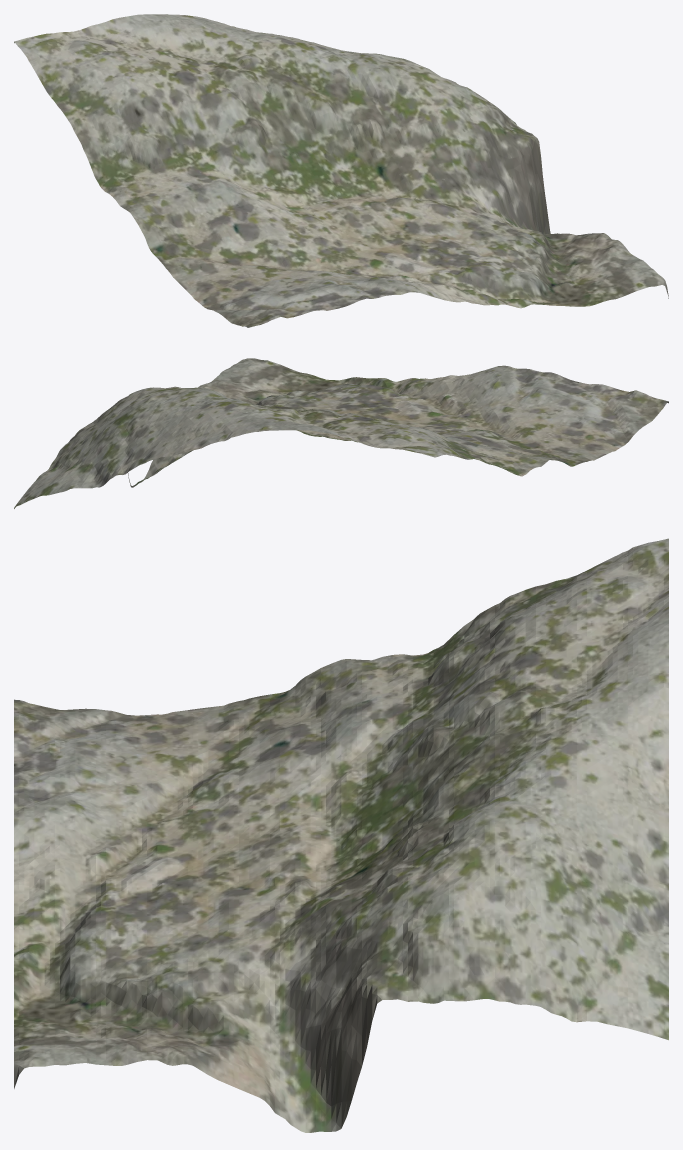
3 renders of one model, top to bottom at view 1: azimuth 30°, elevation 25°; view 2: azimuth 150°, elevation 25°; view 3: azimuth 270°, elevation 25°, orthographic. The views are drawn at different scales.
Bounding box in the file's own units: 250 × 126 × 241.
Materials: 1 (1 with a texture image).
